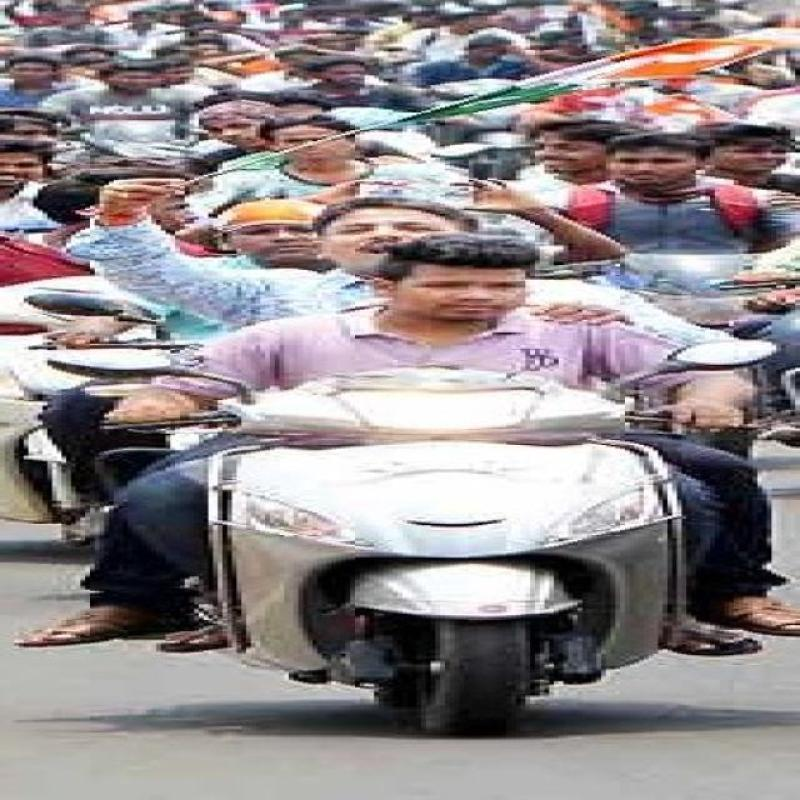nohelmet: (345, 226, 569, 318)
